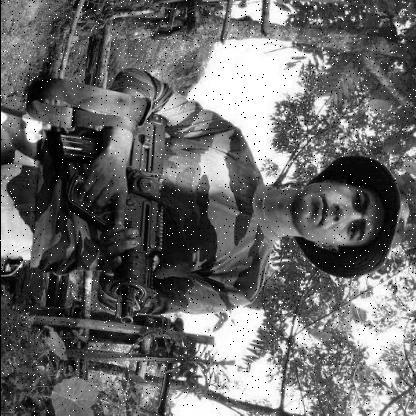rifle: (53, 109, 168, 327)
